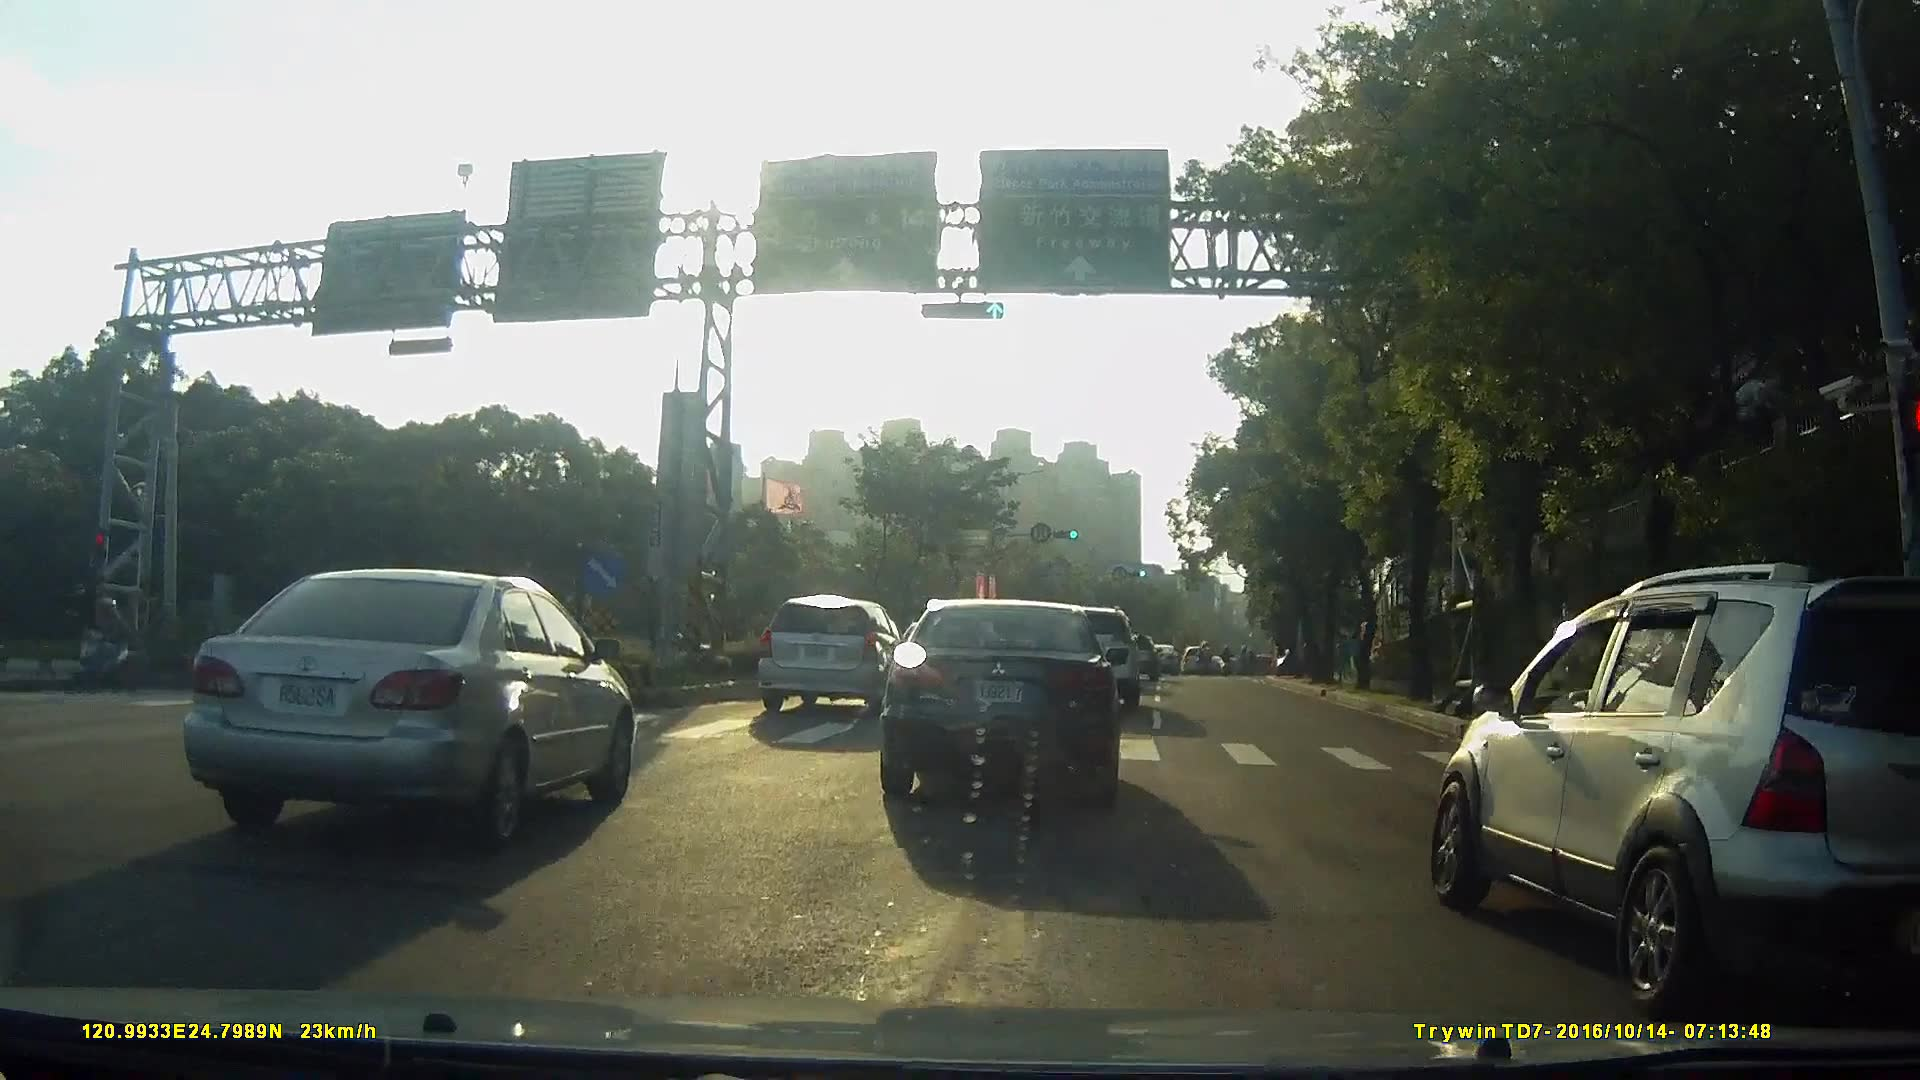rider: (59, 597, 123, 693)
vehicle: (1415, 559, 1920, 1013), (162, 560, 652, 856), (866, 598, 1141, 813), (745, 594, 900, 718), (1138, 640, 1172, 673), (1170, 640, 1201, 673)
